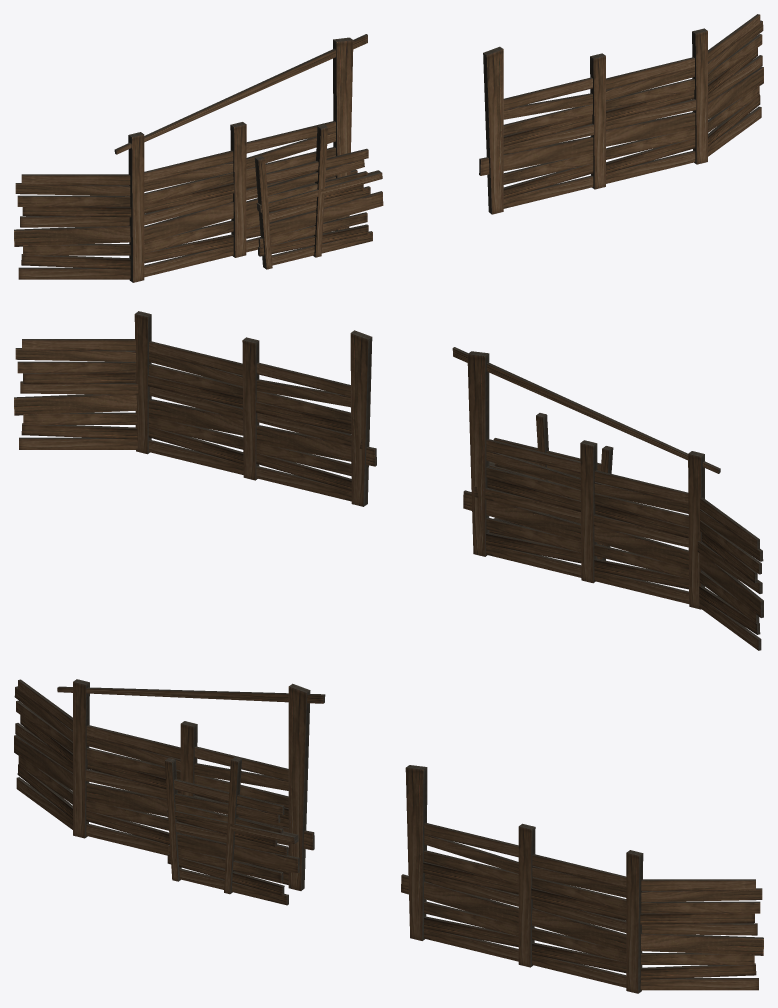
The model's file is map12_gate01.FBX.
3 views of the same model, one above another, from view 1: azimuth 30°, elevation 25°; view 2: azimuth 150°, elevation 25°; view 3: azimuth 330°, elevation 25° (orthographic). The views are drawn at different scales.
Parts seen in each view (by area): view 1: Object001; view 2: Object001; view 3: Object001.
Part boxes in pixels (<box>): Object001: <box>14,14,763,282</box>; Object001: <box>14,311,763,650</box>; Object001: <box>14,679,763,993</box>.
Bounding box in the file's own units: 15103 × 3771 × 1888.
1 material, 1 textured.
